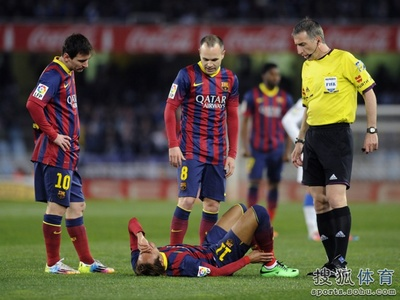falling: (122, 198, 294, 279)
